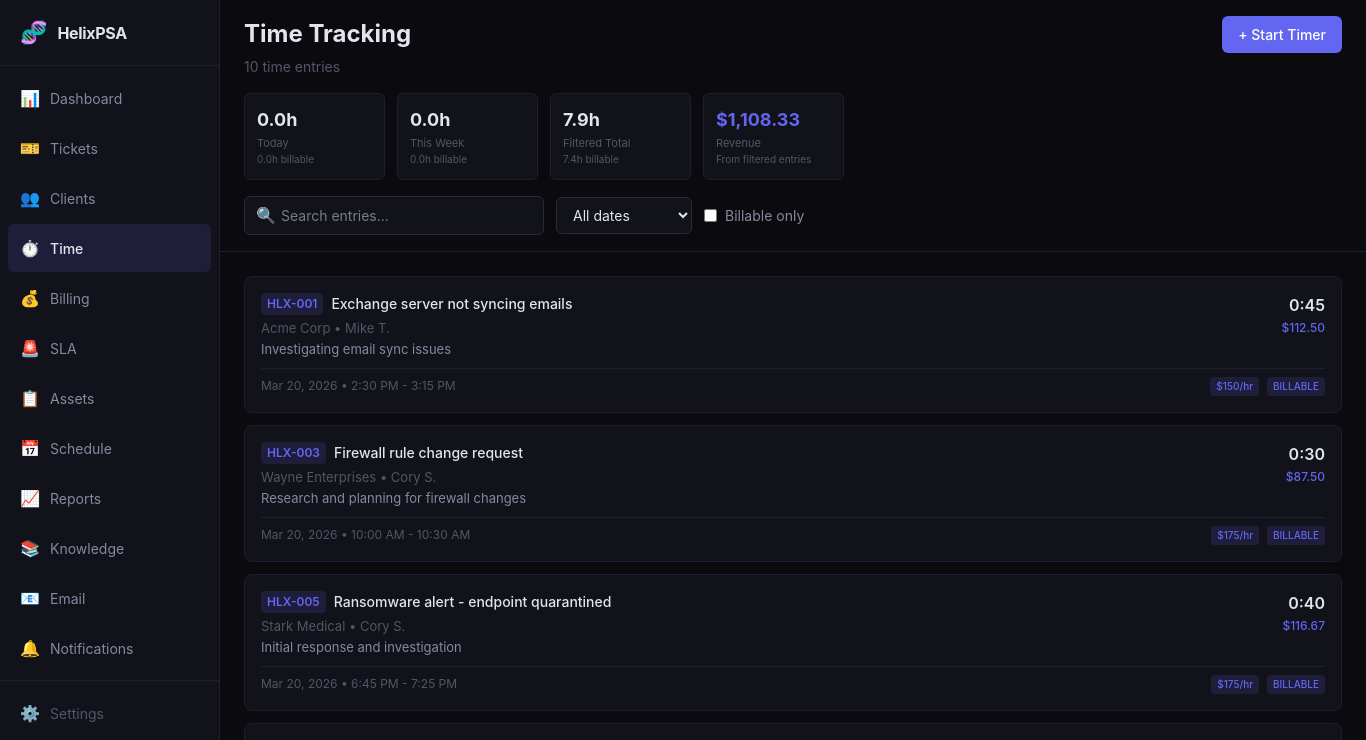
Test: TimePage › handles empty state when no entries match filters
// Search for something that won't match
In the field with placeholder "Search entries...": (394, 215) [244, 196, 544, 234], type "nonexistententry"
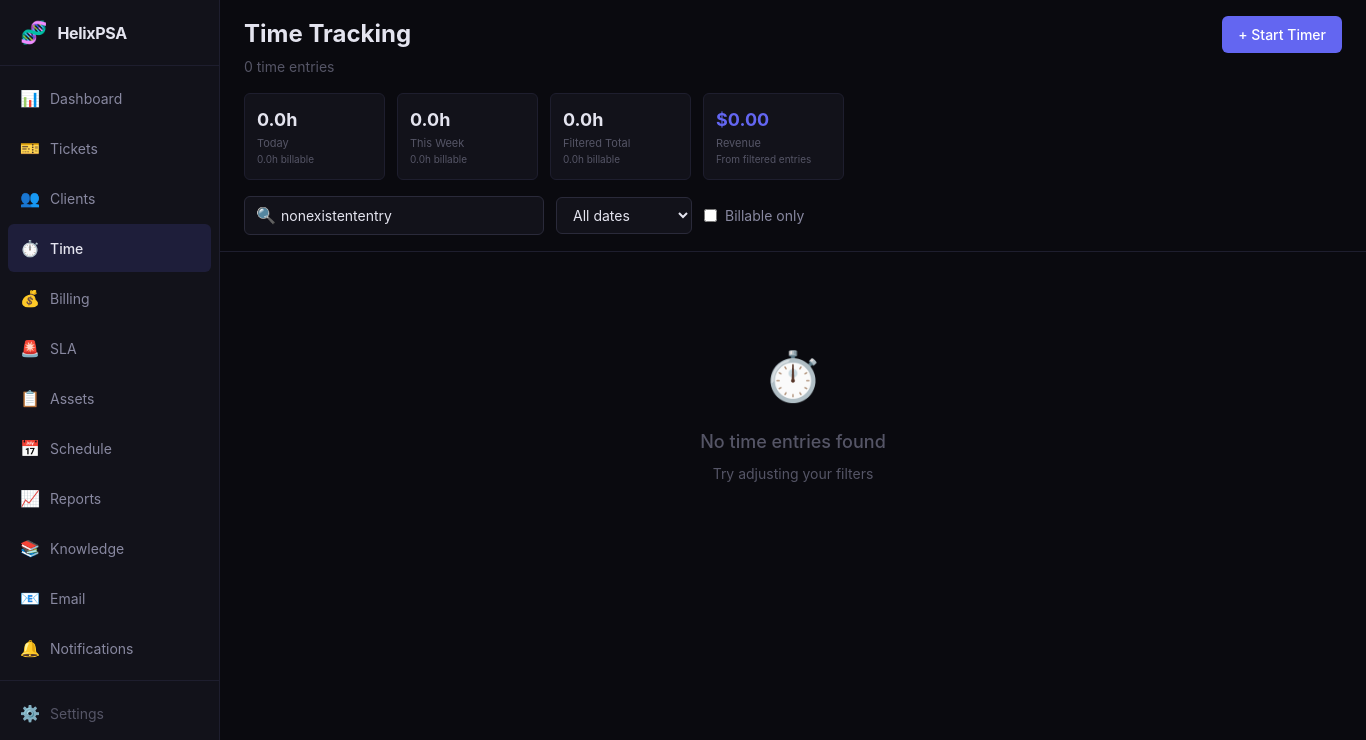
Result: the heading "No time entries found" is shown at [700, 430, 886, 452]
Result: the text "Try adjusting your filters" is shown at [713, 464, 873, 482]
